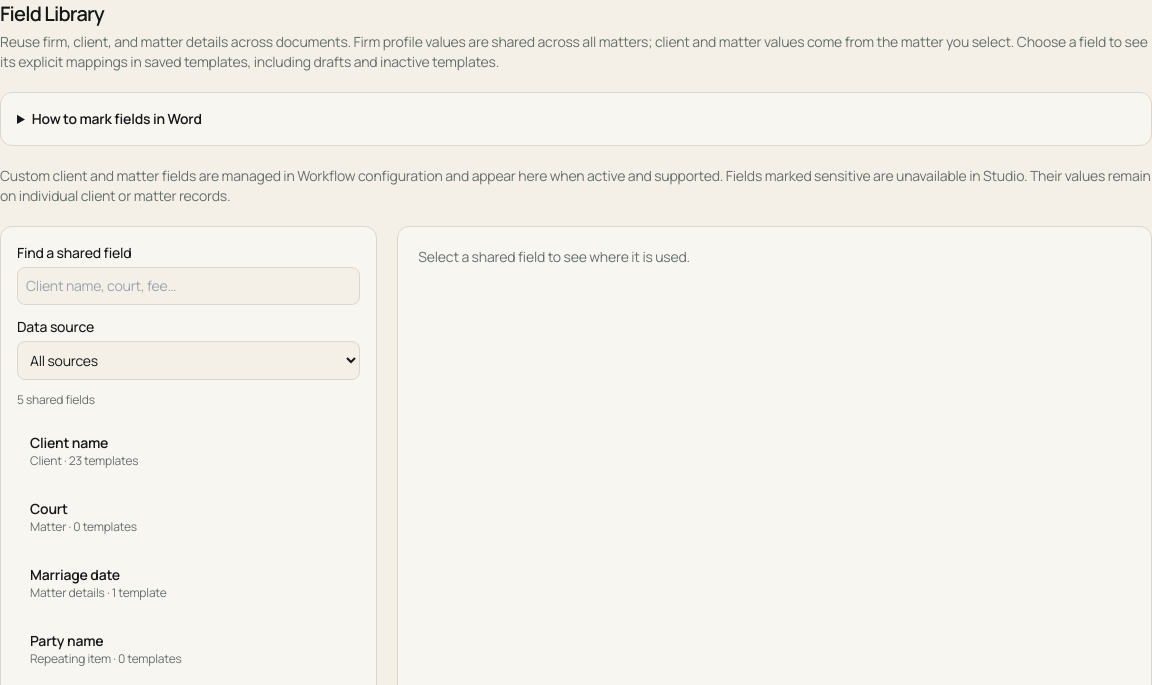
Test: shows firm-wide values separately from client and matter fields
Select "Firm profile" in the dropdown labelled "Data source" at (189,360), box [17,341,360,380]
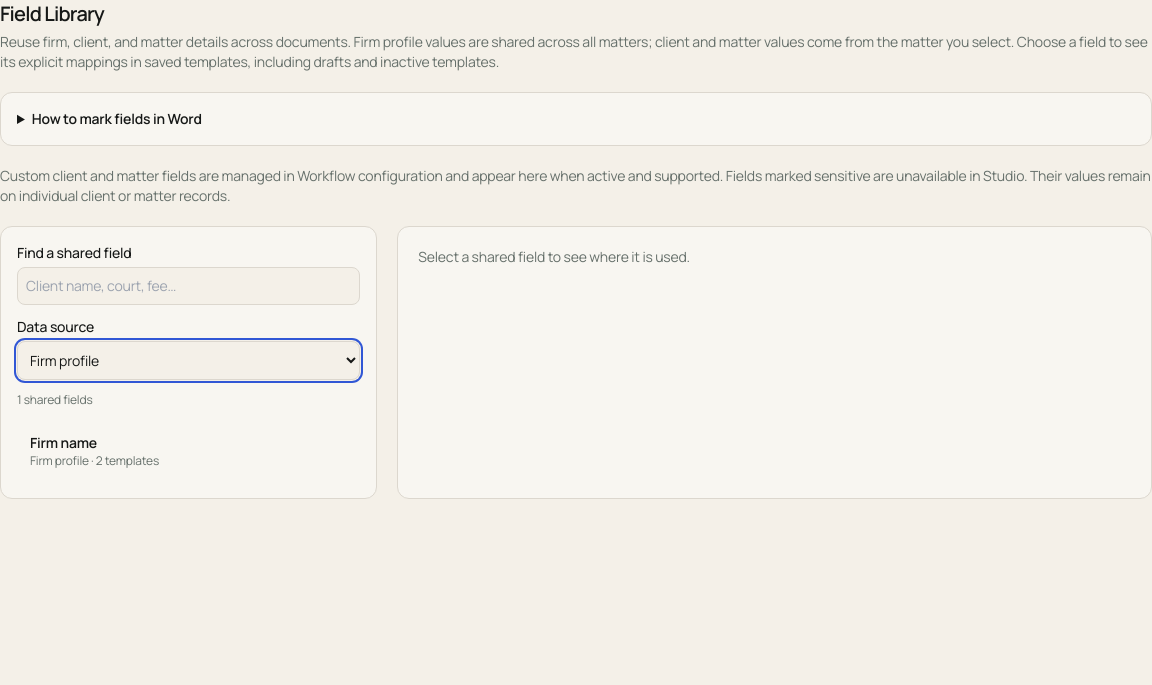
Click the button "Firm name Firm profile · 2 templates" at (63,442), box [17,420,360,482]
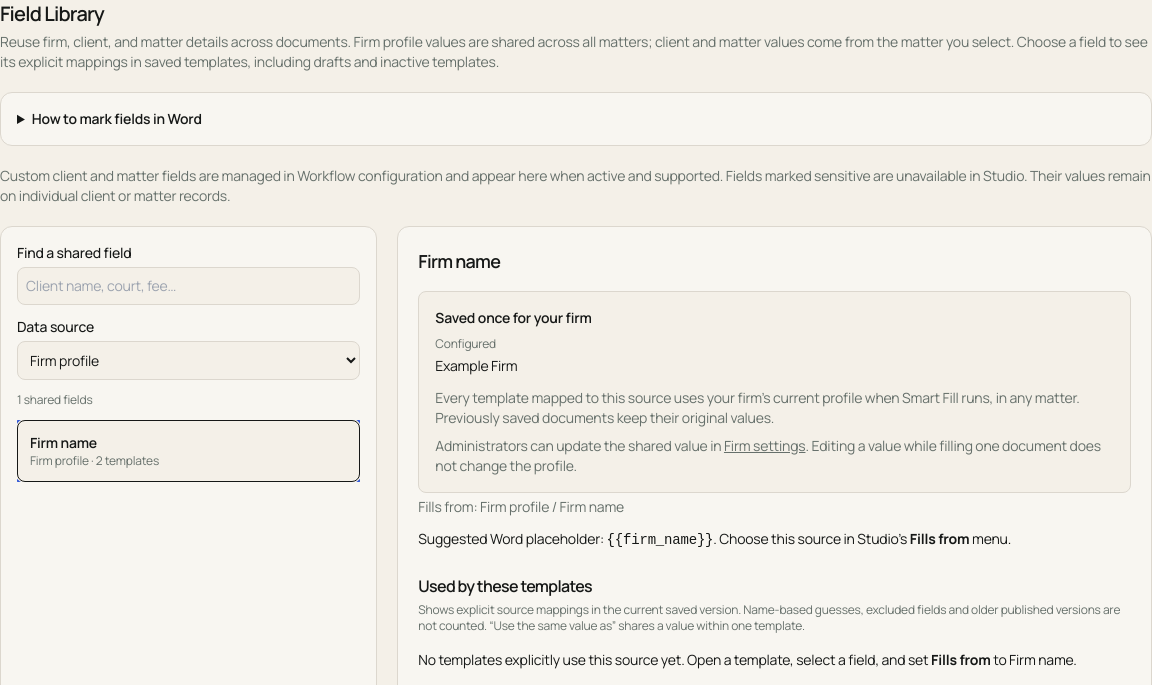
Expected: the text "Custom client and matter fields are managed" is shown, [0,166,1151,205]
Result: the text "Example Firm" is shown at [435,356,518,375]
